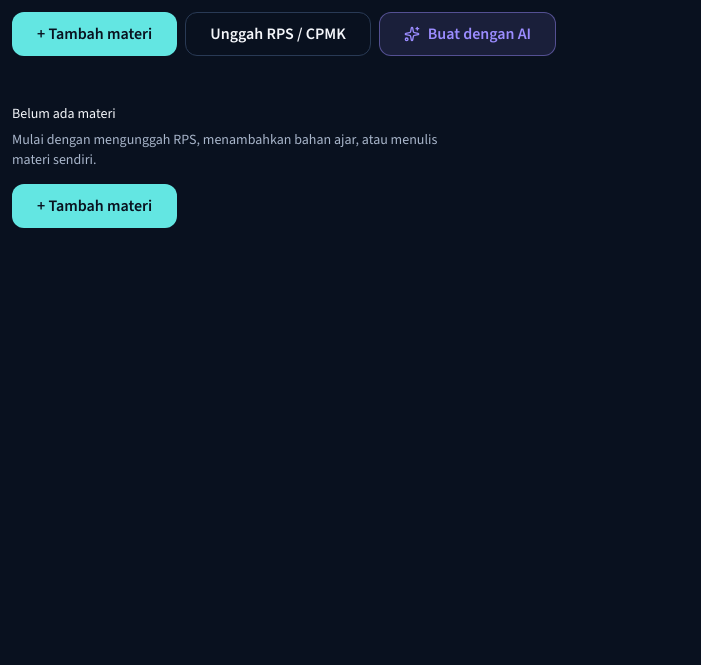
dokumen awal dan CTA AI › menyediakan pilihan jenis dokumen awal pembelajaran
The image size is (701, 665).
What coordinates should you click on to do the following:
click the button "Unggah RPS / CPMK"
I would click on:
 (278, 34)
Its box is top-left (185, 12), bottom-right (371, 56).
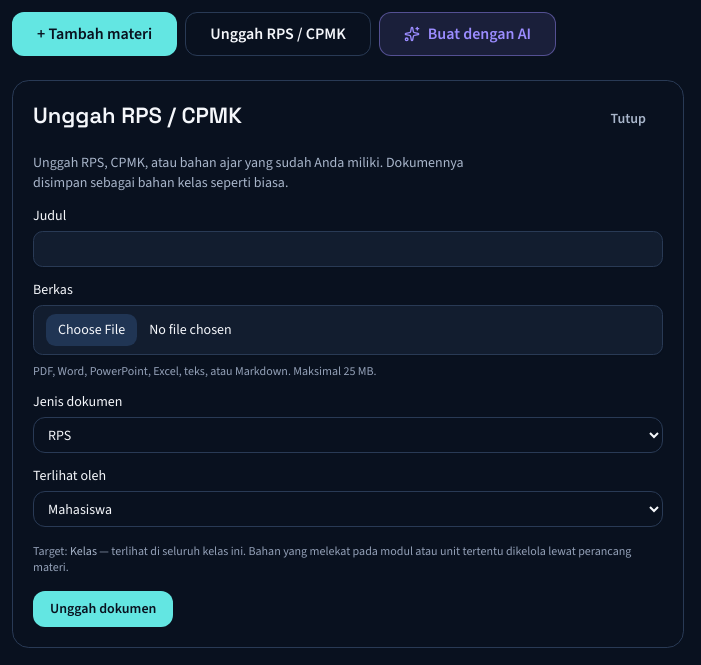
Check: the dropdown labelled "Jenis dokumen" is shown, box top-left (33, 417), bottom-right (663, 453)
